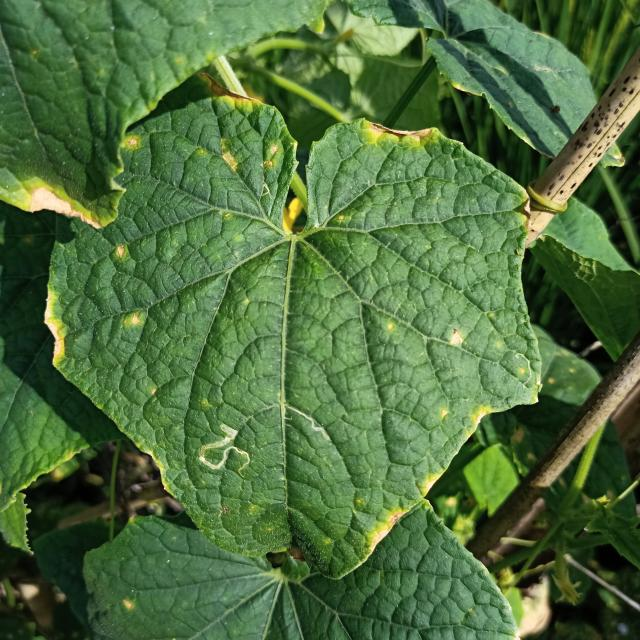disease_cucumber: (210, 84, 288, 178), (439, 400, 504, 440), (447, 328, 471, 351), (124, 311, 149, 331), (112, 242, 129, 261)
